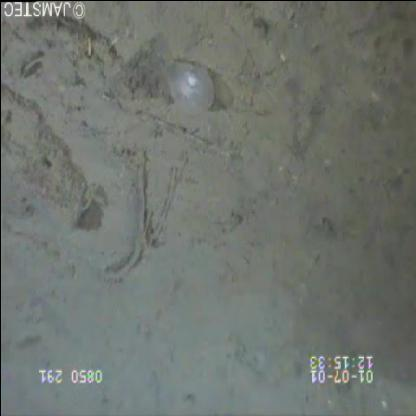Rác: (158, 46, 218, 122)
